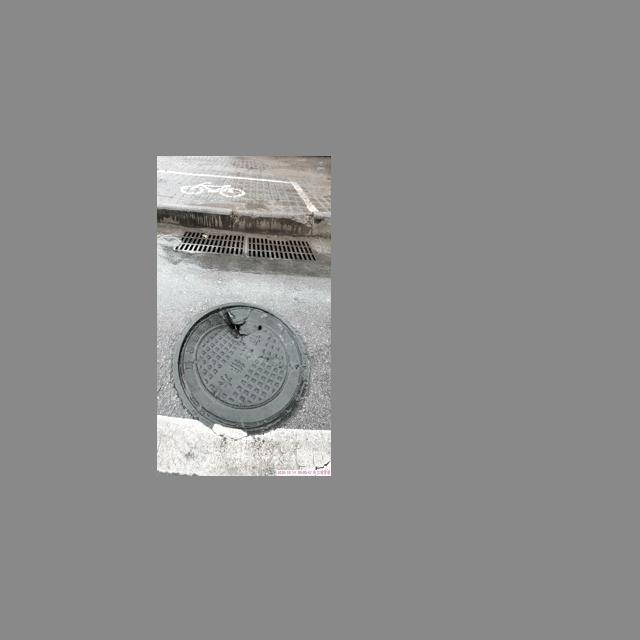broke: (168, 295, 312, 443)
